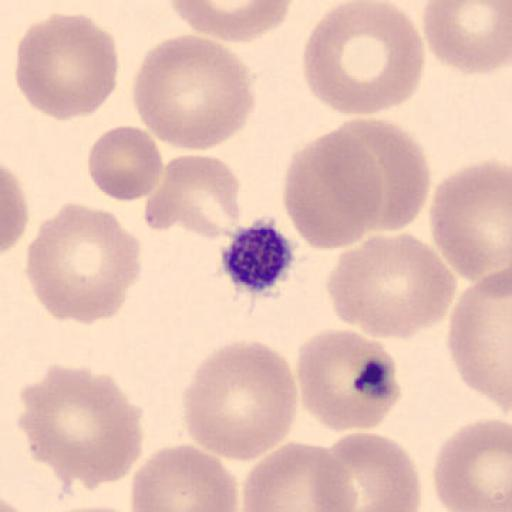Platelet: (218, 217, 298, 296)
RBC: (16, 362, 145, 492), (130, 33, 257, 153), (23, 200, 143, 326), (182, 338, 300, 462), (326, 230, 459, 340), (301, 0, 426, 116), (282, 127, 384, 251), (14, 12, 120, 122), (296, 326, 402, 434), (340, 116, 432, 232), (428, 159, 512, 284), (446, 266, 512, 414), (240, 438, 358, 512), (318, 430, 423, 512), (146, 153, 242, 242), (129, 441, 239, 512), (432, 417, 512, 511), (421, 0, 512, 76), (86, 123, 164, 204), (165, 0, 294, 44), (0, 164, 30, 256), (51, 503, 139, 512)
